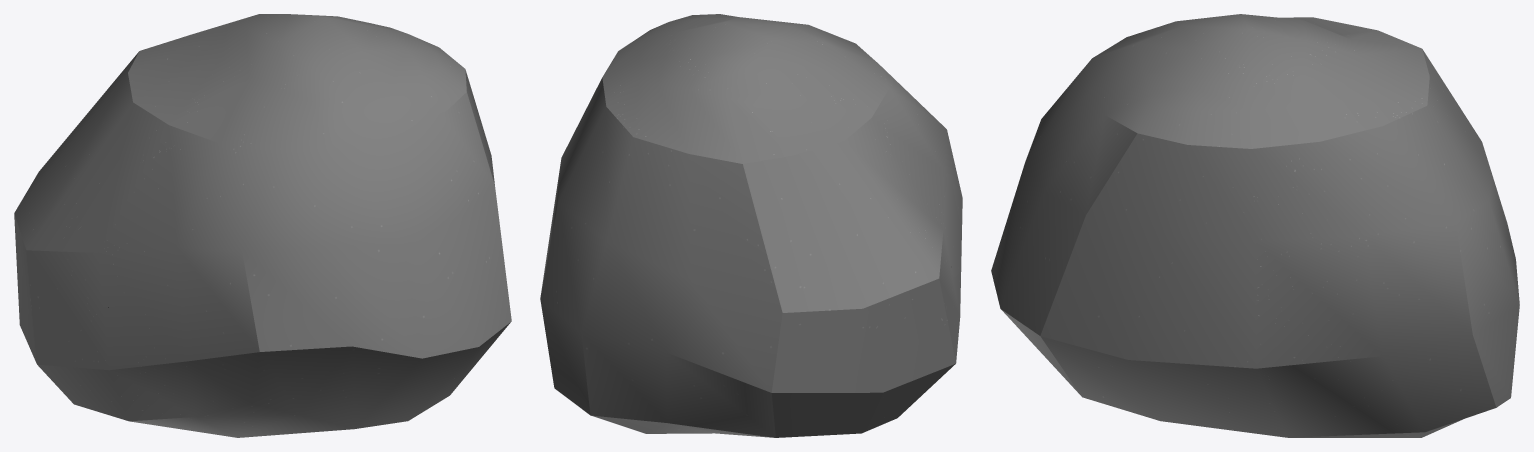
Rendered from Boulder S.fbx.
3 views of the same model, side by side, from view 1: azimuth 30°, elevation 25°; view 2: azimuth 150°, elevation 25°; view 3: azimuth 270°, elevation 25° (orthographic). The views are drawn at different scales.
Parts seen in each view (by area): view 1: Boulder S; view 2: Boulder S; view 3: Boulder S.
Part boxes in pixels (x1=…): Boulder S: x1=14, y1=14, x2=511, y2=437; Boulder S: x1=540, y1=14, x2=962, y2=437; Boulder S: x1=991, y1=14, x2=1519, y2=437.
Bounding box in the file's own units: 1380 × 1262 × 1485.
